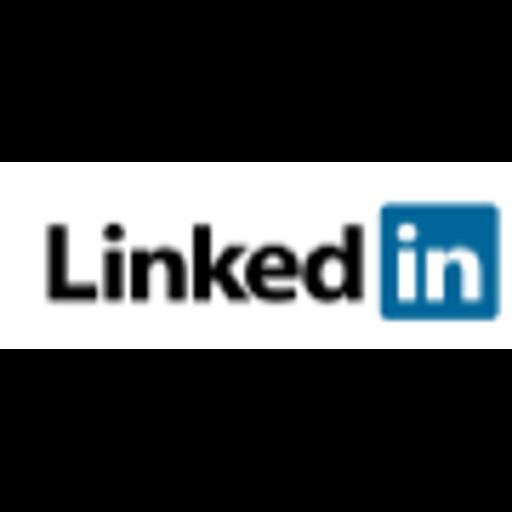LinkedIn Corporation: (0, 162, 512, 349)
